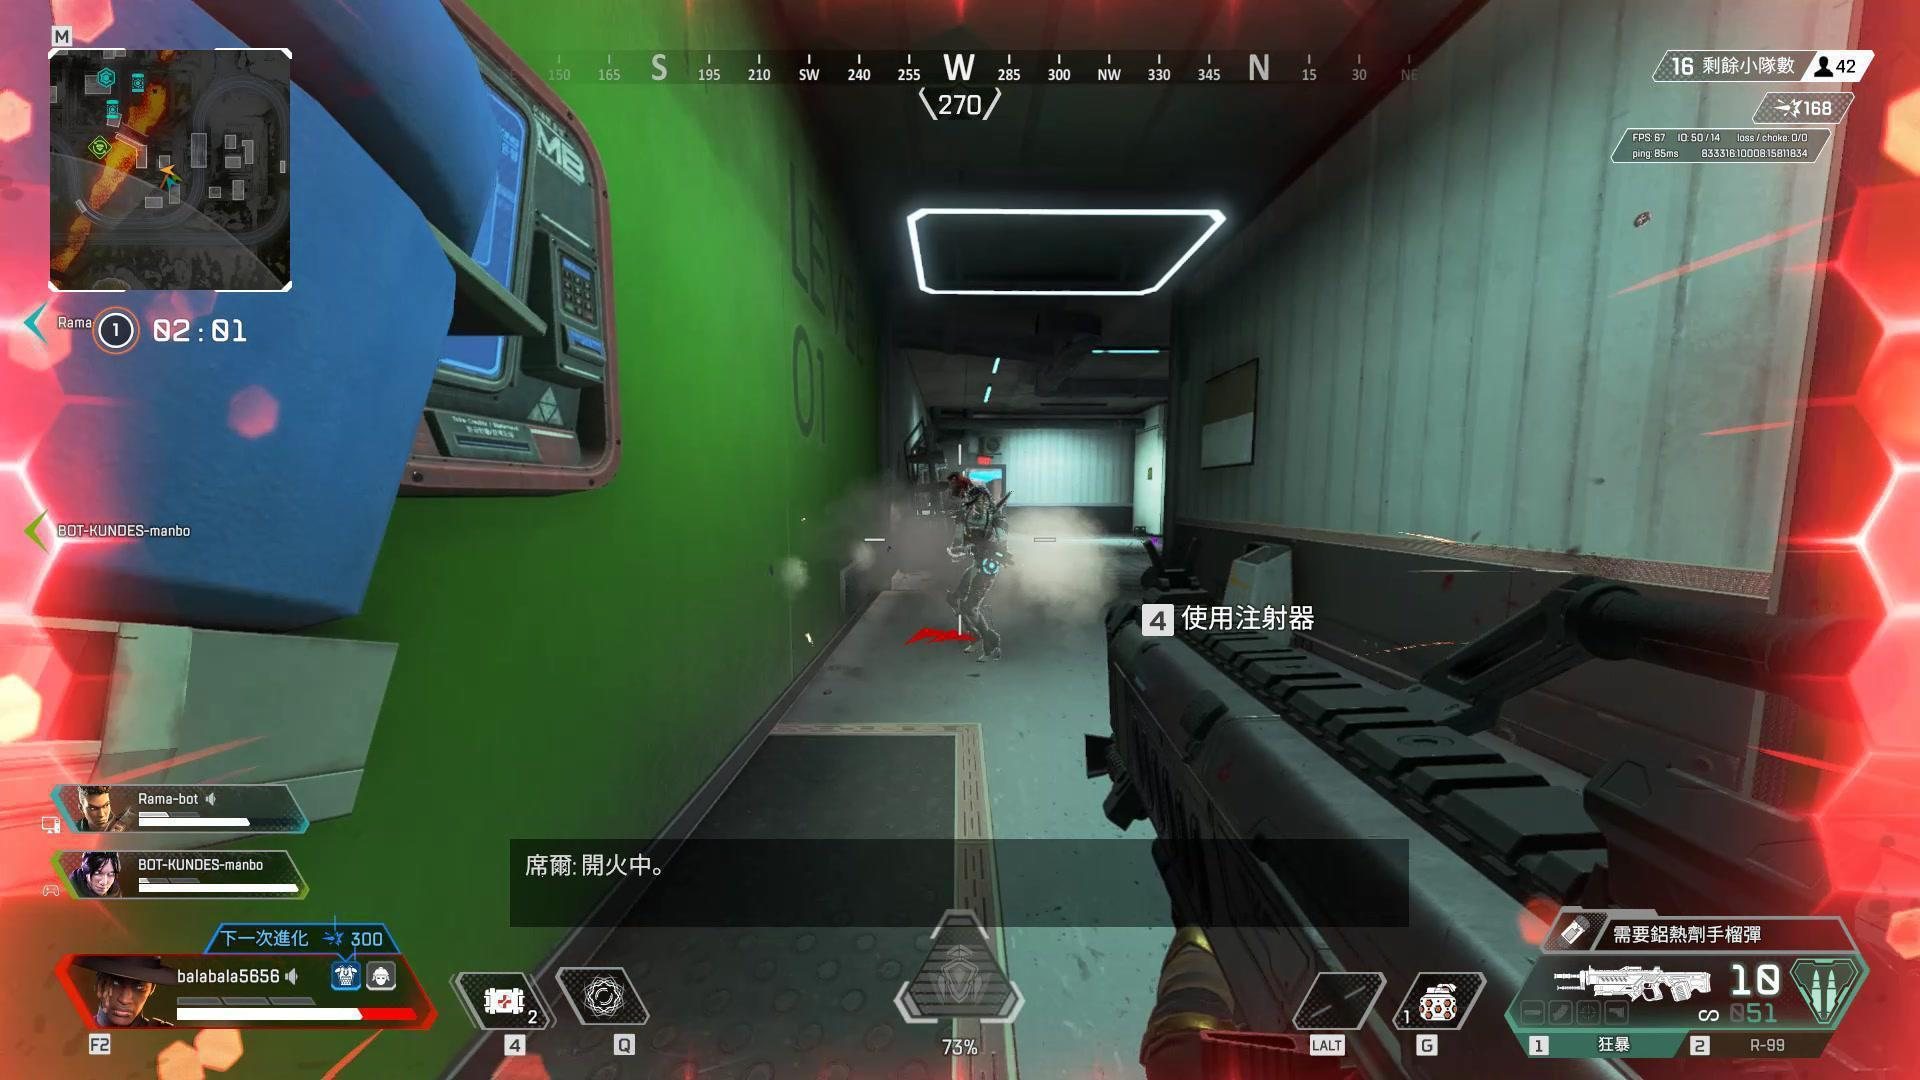avatar: (944, 480, 1014, 663)
